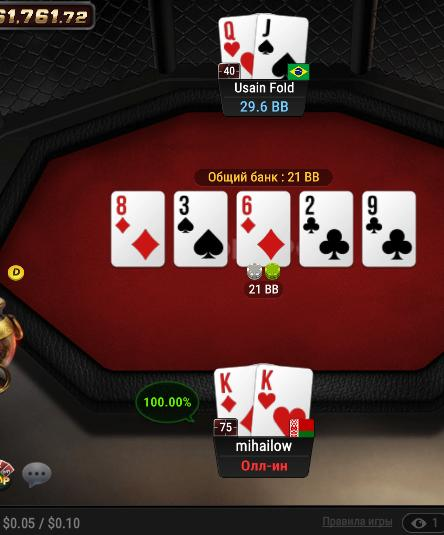2c: (300, 191, 352, 267)
3s: (175, 192, 226, 266)
6d: (238, 193, 290, 266)
8d: (112, 192, 163, 264)
9c: (363, 192, 416, 266)
Js: (255, 14, 308, 79)
Kd: (213, 367, 255, 436)
Kh: (256, 366, 312, 437)
Qh: (218, 14, 256, 76)
